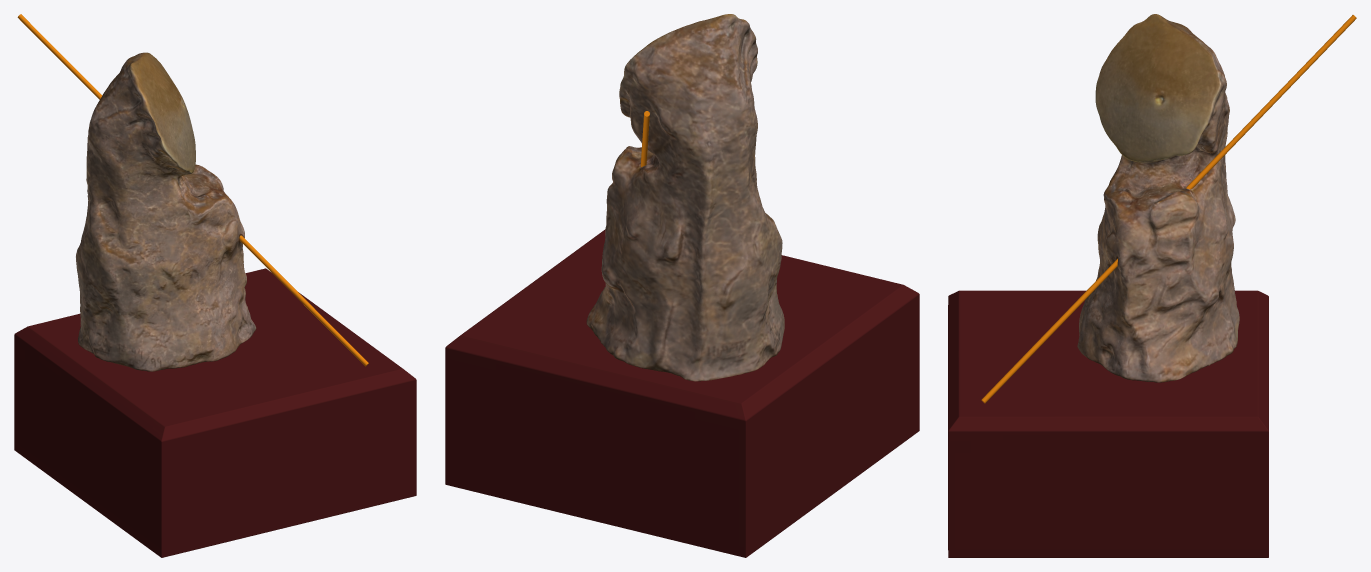
File: untitled-figure-with-spear.glb
3 views of the same model, side by side, from view 1: azimuth 30°, elevation 25°; view 2: azimuth 150°, elevation 25°; view 3: azimuth 270°, elevation 25° (orthographic). The views are drawn at different scales.
Visible parts, largest first — view 1: Cube, 31_3, Cylinder; view 2: Cube, 31_3; view 3: Cube, 31_3, Cylinder.
Boxes of the visible parts, <box> form: Cube: <box>14,268,416,557</box>; 31_3: <box>76,52,256,371</box>; Cylinder: <box>17,14,368,366</box>; Cube: <box>445,229,919,557</box>; 31_3: <box>586,14,784,381</box>; Cube: <box>948,290,1268,557</box>; 31_3: <box>1077,14,1239,382</box>; Cylinder: <box>981,15,1356,403</box>.
Size of the model in its own units: 35.62 by 54.33 by 45.38.
Materials: 3 (1 with a texture image).
